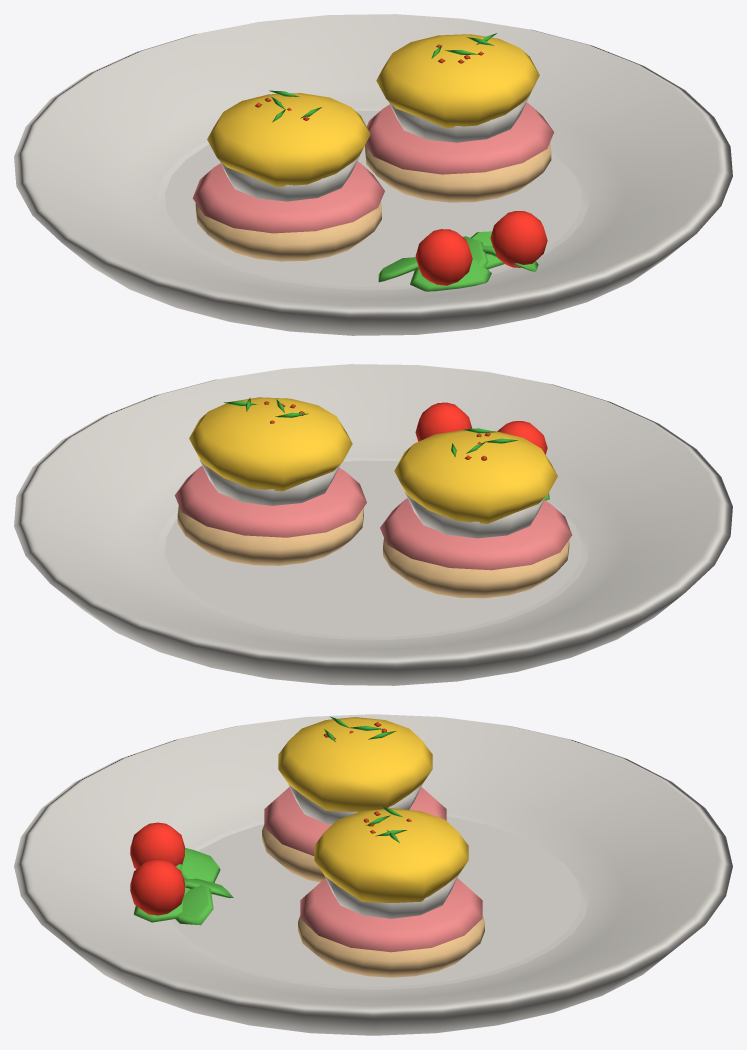
3 views of the same model, one above another, from view 1: azimuth 30°, elevation 25°; view 2: azimuth 150°, elevation 25°; view 3: azimuth 270°, elevation 25° (orthographic).
Visible parts, largest first — view 1: plate, hollandaise, plate_well, ham, muffin, tomato, egg, greens, chives; view 2: plate, plate_well, hollandaise, ham, muffin, egg, tomato, chives; view 3: plate, plate_well, hollandaise, ham, muffin, tomato, egg, greens, chives.
Boxes of the visible parts, box(x1,y1,x2,y2) form: plate: box(14, 14, 732, 335); hollandaise: box(207, 34, 539, 187); plate_well: box(165, 110, 581, 286); ham: box(192, 102, 554, 233); muffin: box(195, 142, 551, 261); tomato: box(415, 211, 547, 285); egg: box(219, 96, 528, 201); greens: box(378, 231, 538, 291); chives: box(269, 33, 496, 122); plate: box(14, 364, 732, 685); plate_well: box(165, 460, 581, 636); hollandaise: box(189, 397, 557, 523); ham: box(174, 466, 571, 570); muffin: box(177, 505, 569, 598); egg: box(200, 459, 545, 538); tomato: box(415, 402, 547, 454); chives: box(224, 397, 518, 457); plate: box(14, 714, 732, 1035); plate_well: box(172, 816, 581, 986); hollandaise: box(278, 717, 468, 902); ham: box(264, 787, 482, 952); muffin: box(262, 825, 484, 977); tomato: box(130, 822, 184, 915); egg: box(288, 784, 457, 918); greens: box(134, 847, 233, 925); chives: box(324, 716, 406, 842).
Bounding box in the file's own units: 0.2 × 0.0464 × 0.2.
